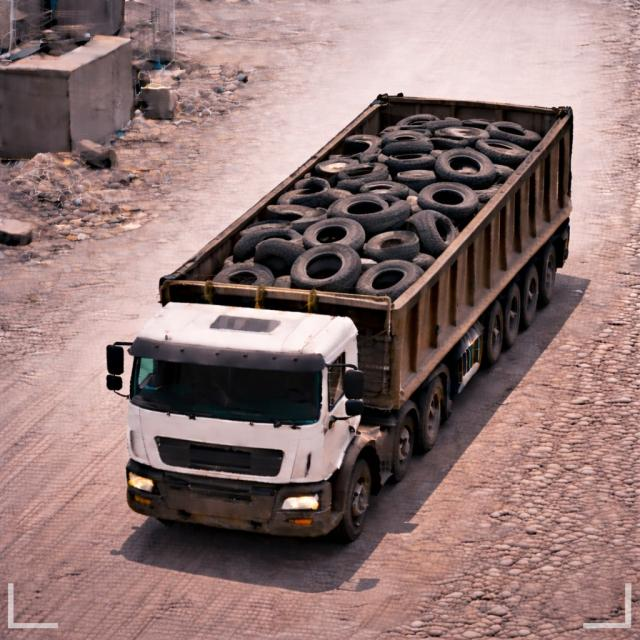Box: (160, 94, 580, 286)
Truck: (100, 83, 600, 548)
